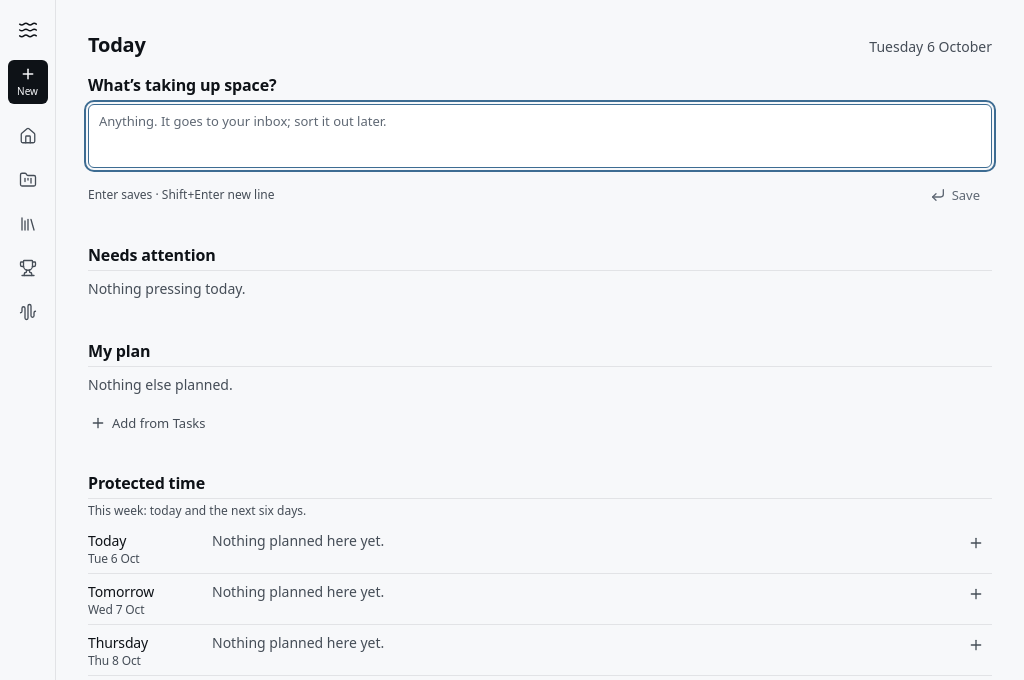
Test: Today page › plans a task from Tasks in two clicks, then takes it out of the plan without losing it
The width and height of the screenshot is (1024, 680).
Expected: the heading "Today" is shown, [88,32,146,58]
Expected: the heading "Needs attention" is shown, [88,244,216,266]
Click the button "Add from Tasks" at (148, 423), box [78,407,218,439]
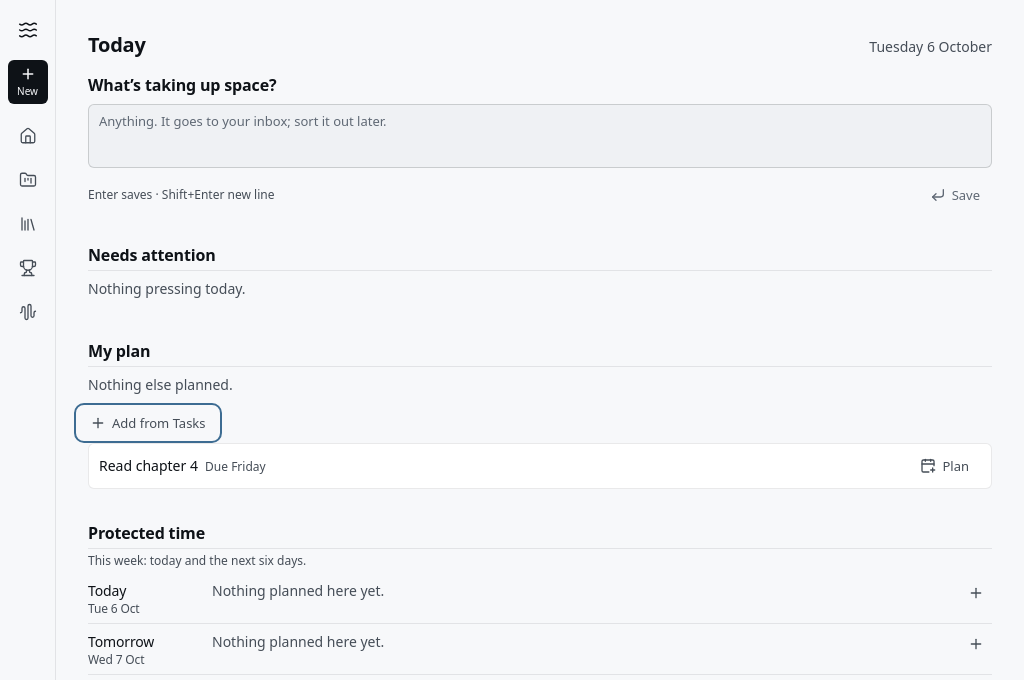
Click the button with aria-label "Plan for today: Read chapter 4" at (945, 466), box [908,450,981,482]
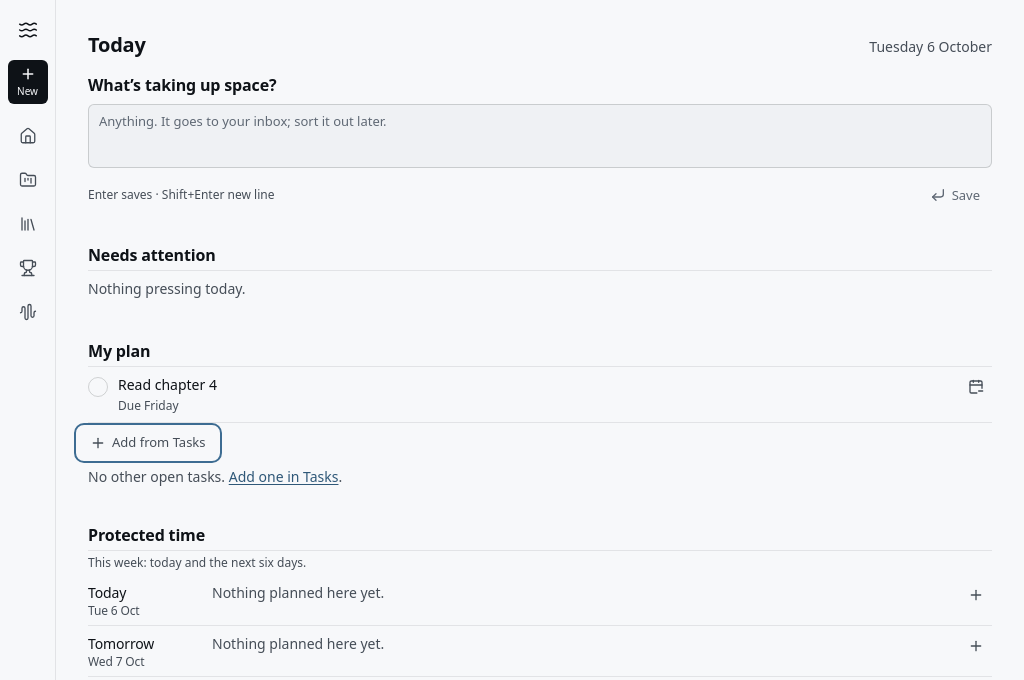
Now the text "Read chapter 4" is shown, box [118,375,217,394]
Now the text "No other open tasks. Add one in Tasks ." is shown, box [88,467,342,486]
Click the button named "Take out of today’s plan: Read chapter 4" at (976, 387), box [960,371,992,403]
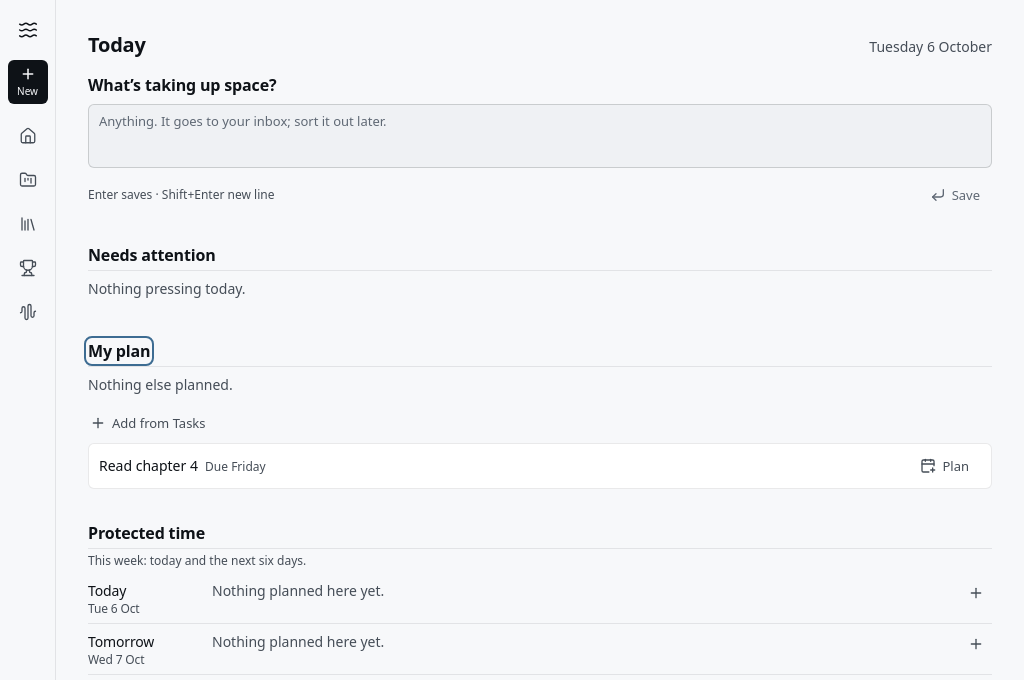
Now the button with aria-label "Plan for today: Read chapter 4" is shown, box [908,450,981,482]
